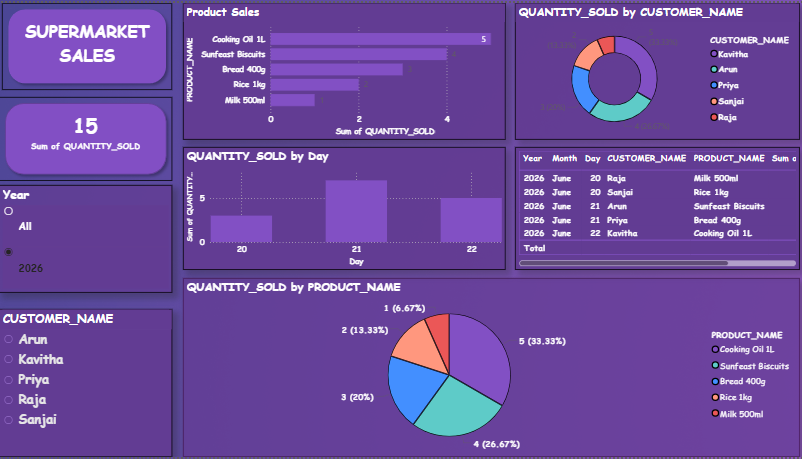

The page's visual inventory and layout, read from the dashboard file:
{"tool":"powerbi","page":{"name":"Project 1","canvas":[1280,720],"ordinal":0},"visuals":[{"type":"clusteredBarChart","title":"Product Sales","fields":{"Category":["Table1.PRODUCT_NAME"],"Y":["Sum(Table3.QUANTITY_SOLD)"]},"box":[292.3,0,512.3,216.7],"z":0},{"type":"pieChart","title":"QUANTITY_SOLD by PRODUCT_NAME","fields":{"Category":["Table1.PRODUCT_NAME"],"Y":["Sum(Table3.QUANTITY_SOLD)"]},"box":[292.3,436.7,979.3,283.9],"z":2000},{"type":"clusteredColumnChart","title":" QUANTITY_SOLD by Day","fields":{"Category":["Table3.SALE_DATE.Variation.Date Hierarchy.Day"],"Y":["Sum(Table3.QUANTITY_SOLD)"]},"box":[292.3,228.5,512.3,194.9],"z":3000},{"type":"donutChart","title":" QUANTITY_SOLD by CUSTOMER_NAME","fields":{"Category":["Table2.CUSTOMER_NAME"],"Y":["Sum(Table3.QUANTITY_SOLD)"]},"box":[819.7,0,451.9,216.7],"z":4000},{"type":"tableEx","fields":{"Values":["Table3.SALE_DATE.Variation.Date Hierarchy.Year","Table3.SALE_DATE.Variation.Date Hierarchy.Month","Table3.SALE_DATE.Variation.Date Hierarchy.Day","Table2.CUSTOMER_NAME","Table1.PRODUCT_NAME","Sum(Table3.QUANTITY_SOLD)"]},"box":[819.7,228.5,451.9,194.9],"z":5000},{"type":"listSlicer","fields":{"Values":["Table2.CUSTOMER_NAME"]},"box":[0,485.5,275.5,235.2],"z":6000},{"type":"listSlicer","fields":{"Values":["Table3.SALE_DATE.Variation.Date Hierarchy.Year"]},"box":[0,288.9,275.5,171.3],"z":7000},{"type":"shape","box":[5,0,270.4,137.7],"z":8000},{"type":"textbox","box":[5,21.8,270.4,94.1],"z":8002},{"type":"shape","box":[0,149.5,275.5,132.7],"z":8003},{"type":"cardVisual","fields":{"Data":["Sum(Table3.QUANTITY_SOLD)","Sum(Table3.QUANTITY_SOLD)","Sum(Table3.QUANTITY_SOLD)"]},"box":[0,137.7,275.5,120.9],"z":8004}]}

Visuals, with their boxes in screenshot pixels (x1, y1, x2, y2), scaled from the page's 1280x720 canvas onto the 802x459 screenshot:
"Product Sales" clusteredBarChart: crop(183, 0, 504, 138)
"QUANTITY_SOLD by PRODUCT_NAME" pieChart: crop(183, 278, 797, 458)
" QUANTITY_SOLD by Day" clusteredColumnChart: crop(183, 146, 504, 270)
" QUANTITY_SOLD by CUSTOMER_NAME" donutChart: crop(514, 0, 797, 138)
tableEx - Table3.SALE_DATE.Variation.Date Hierarchy.Year x Table3.SALE_DATE.Variation.Date Hierarchy.Month: crop(514, 146, 797, 270)
listSlicer - Table2.CUSTOMER_NAME: crop(0, 310, 173, 458)
listSlicer - Table3.SALE_DATE.Variation.Date Hierarchy.Year: crop(0, 184, 173, 293)
shape: crop(3, 0, 173, 88)
textbox: crop(3, 14, 173, 74)
shape: crop(0, 95, 173, 180)
cardVisual - Sum(Table3.QUANTITY_SOLD) x Sum(Table3.QUANTITY_SOLD): crop(0, 88, 173, 165)
